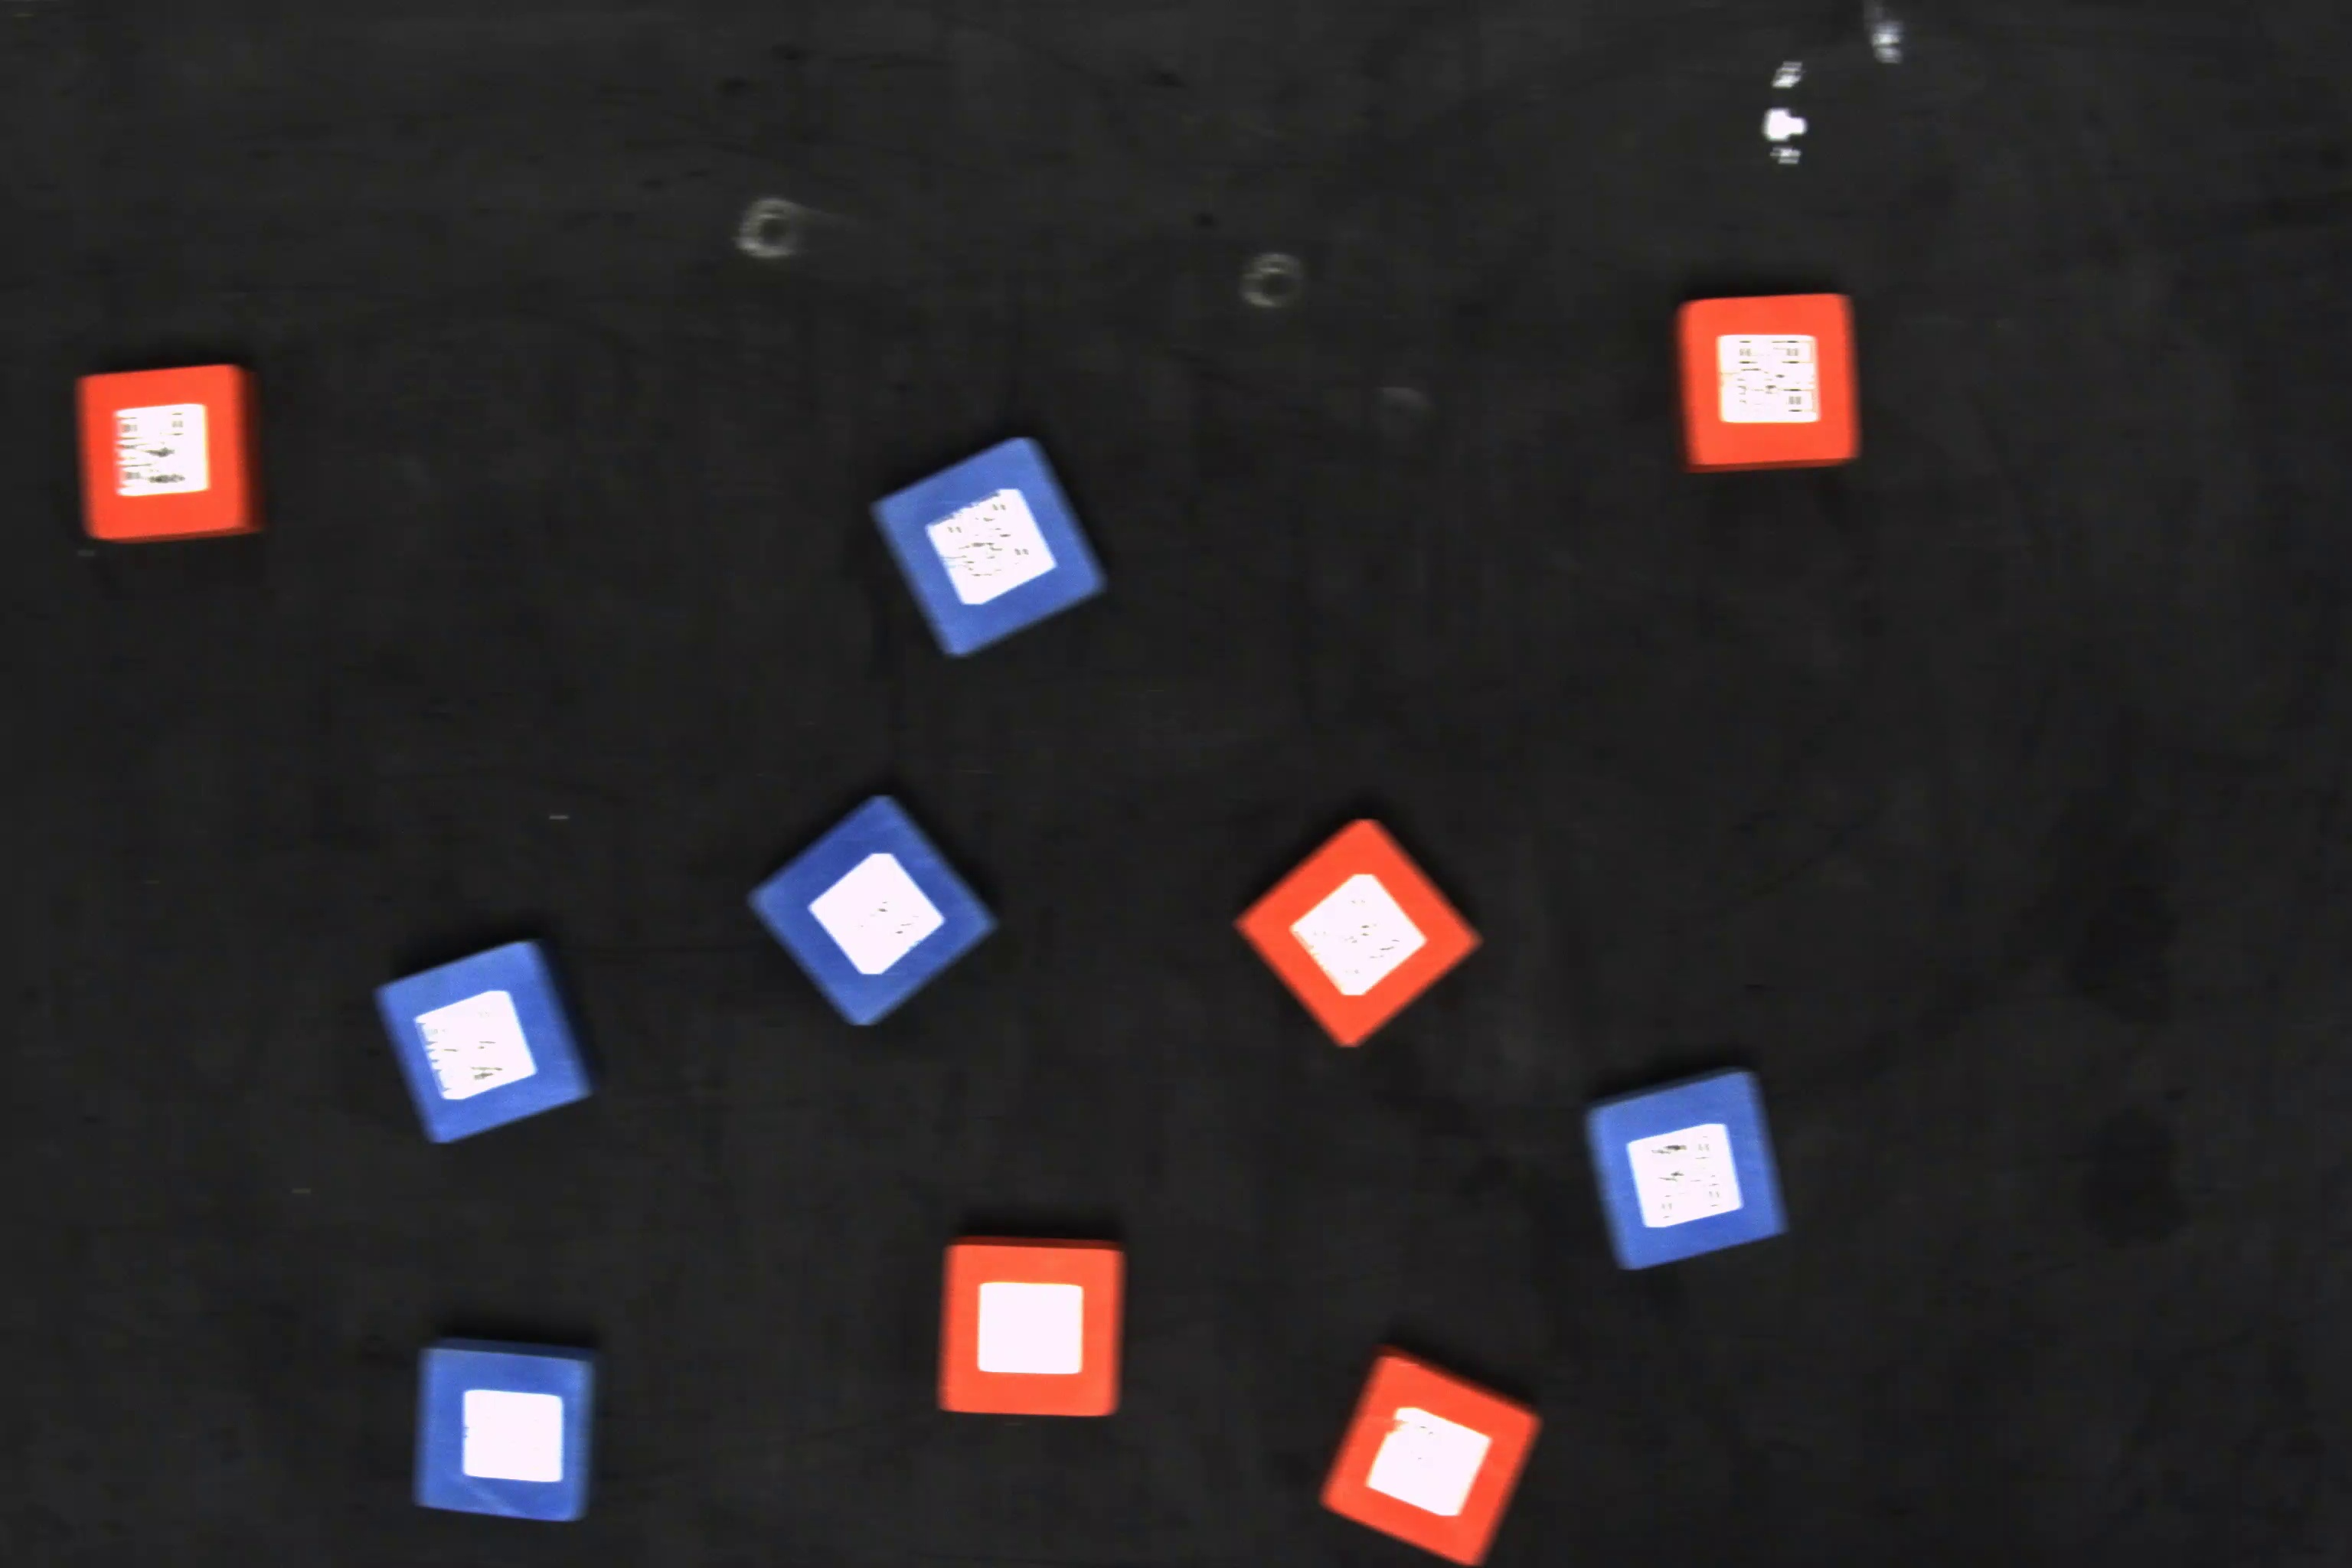wood: (745, 784, 1001, 1032), (1241, 810, 1489, 1060), (863, 436, 1113, 660), (1307, 1344, 1550, 1557), (381, 924, 590, 1150), (1591, 1050, 1781, 1276), (416, 1332, 612, 1526), (941, 1227, 1129, 1423), (77, 359, 266, 551), (1676, 289, 1862, 465)
